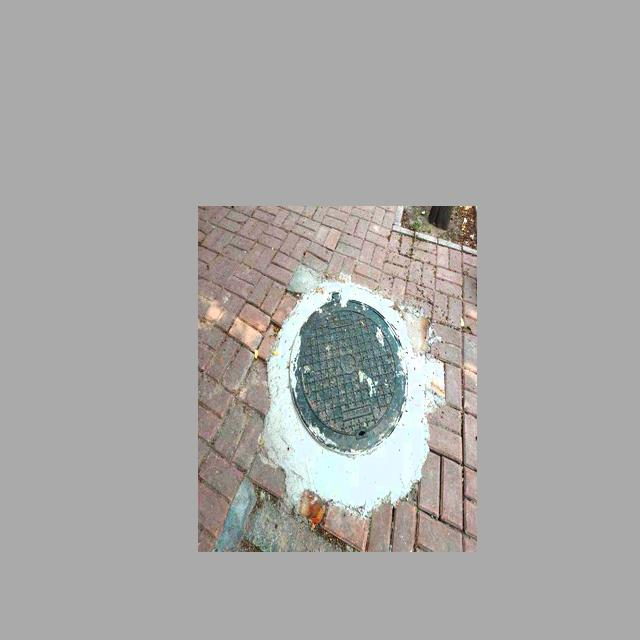good: (269, 278, 428, 504)
